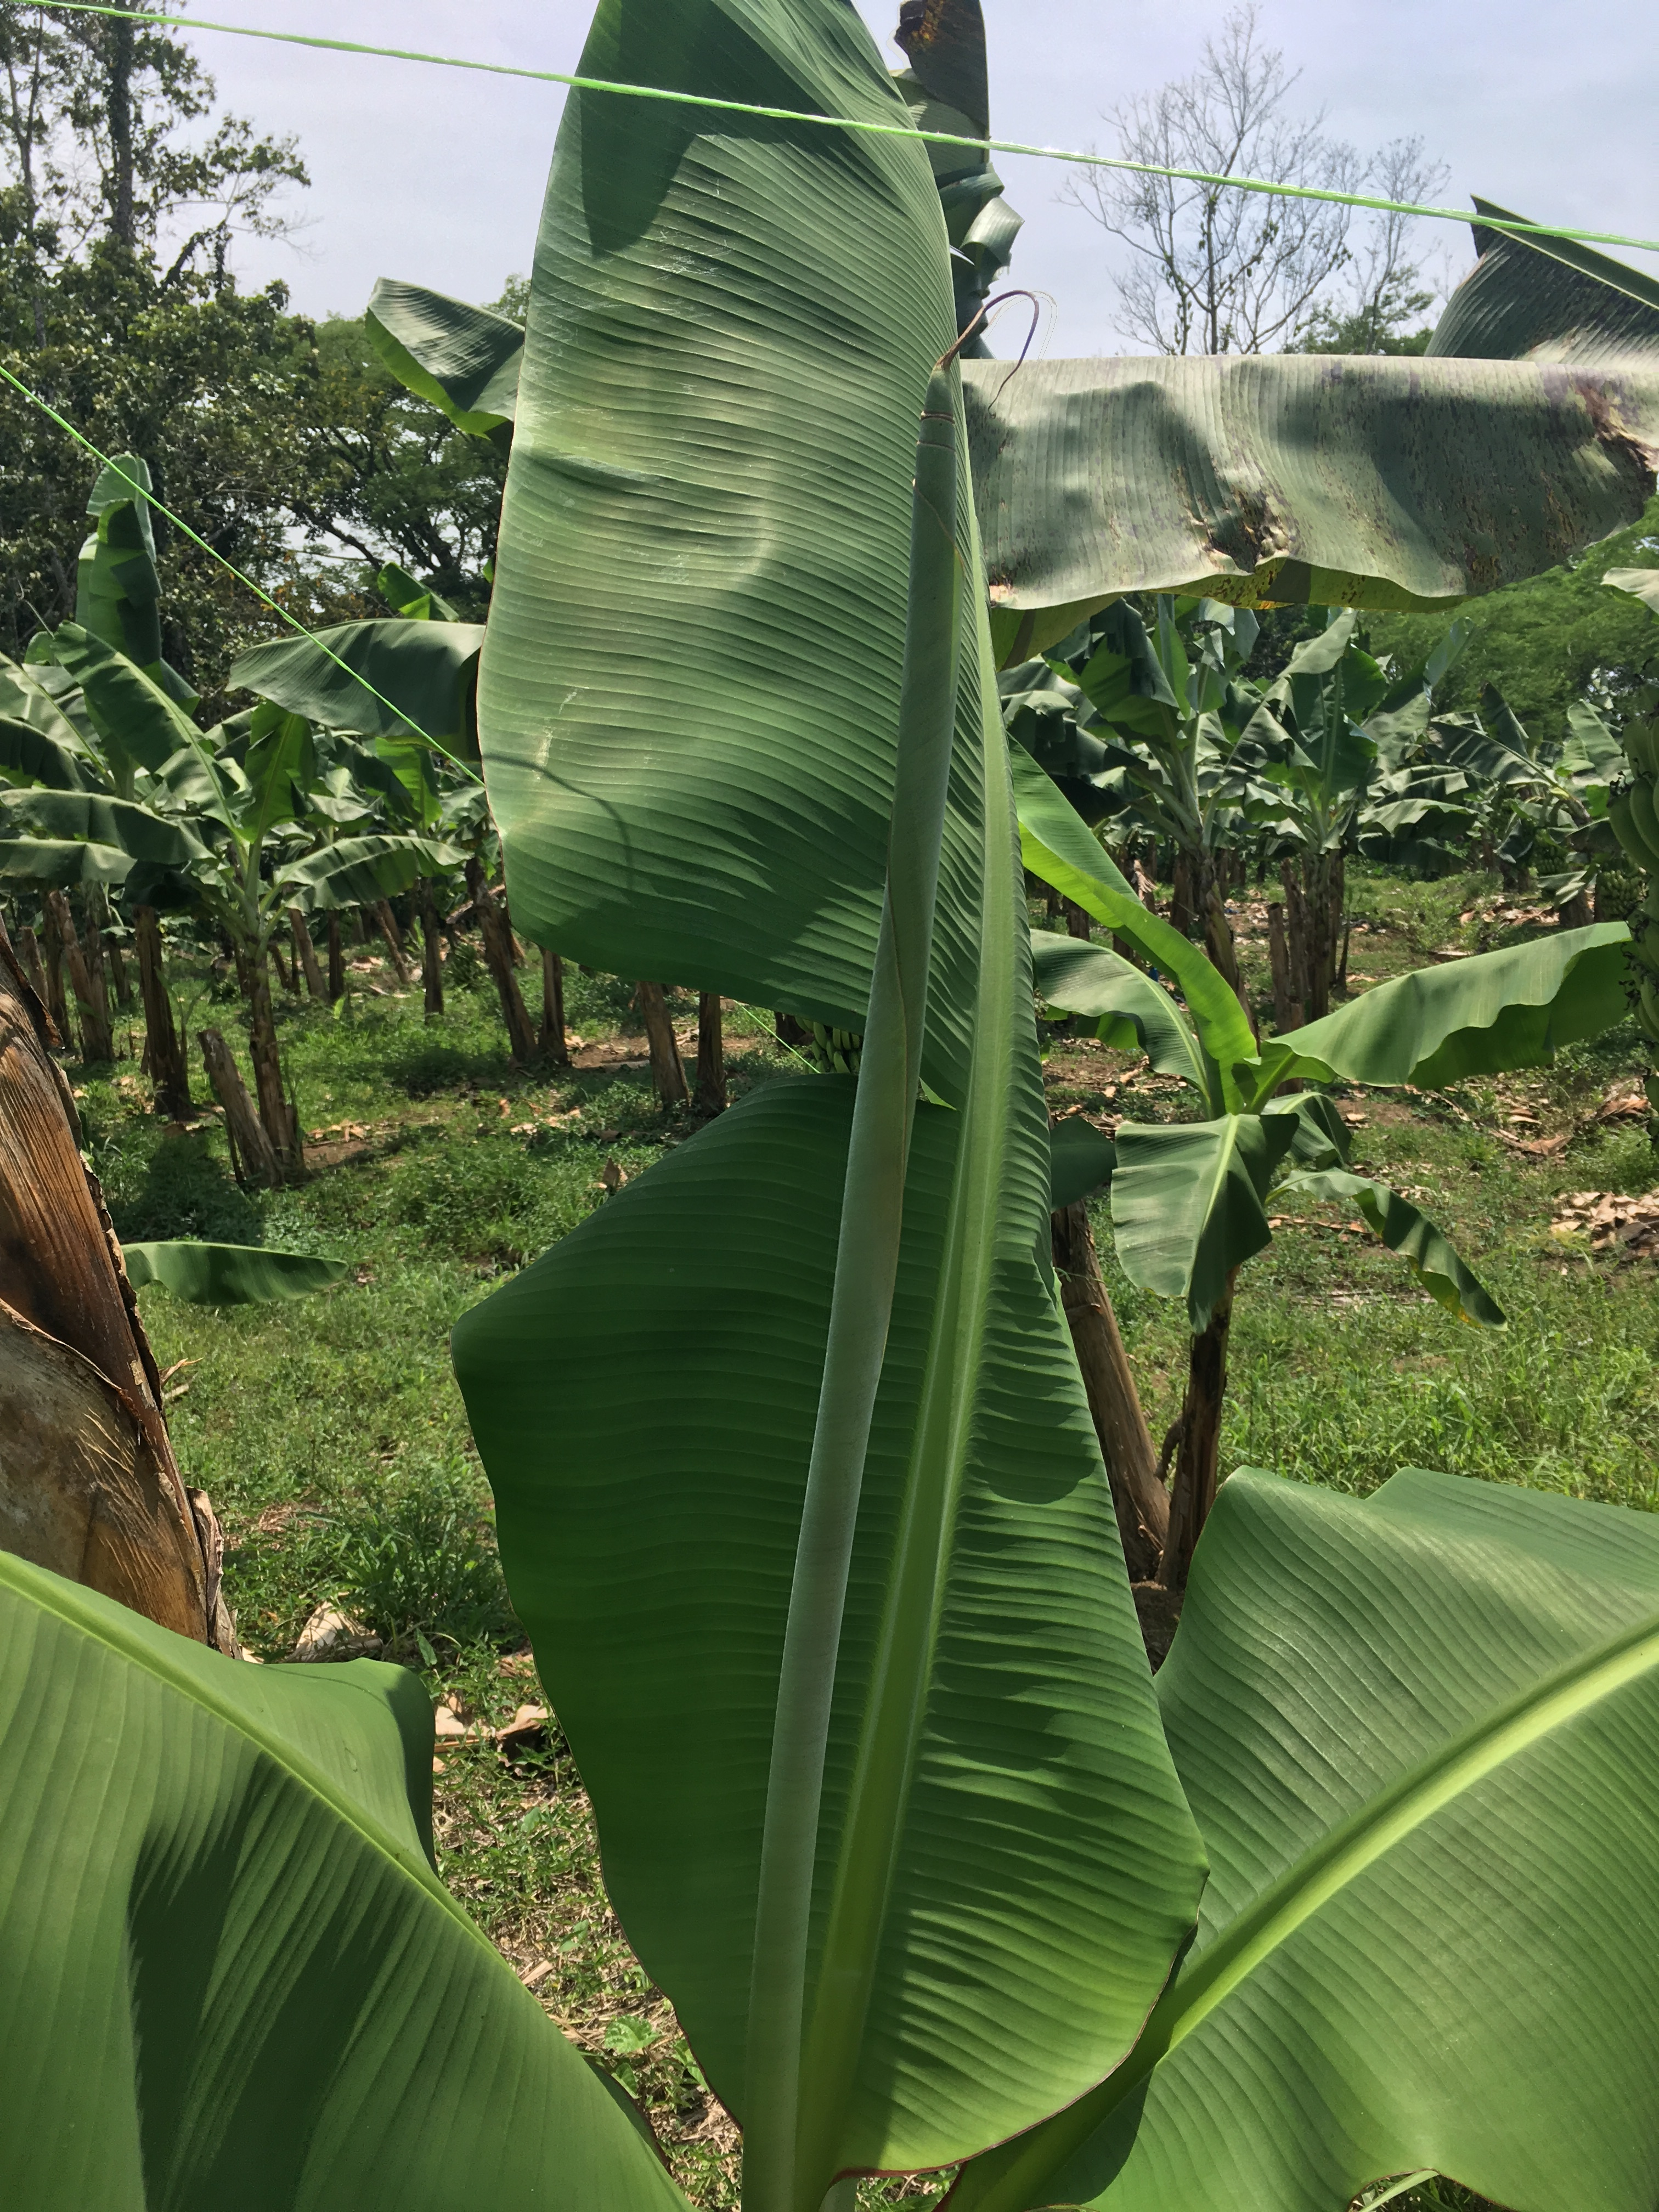candleleafs: (739, 294, 1039, 2203)
